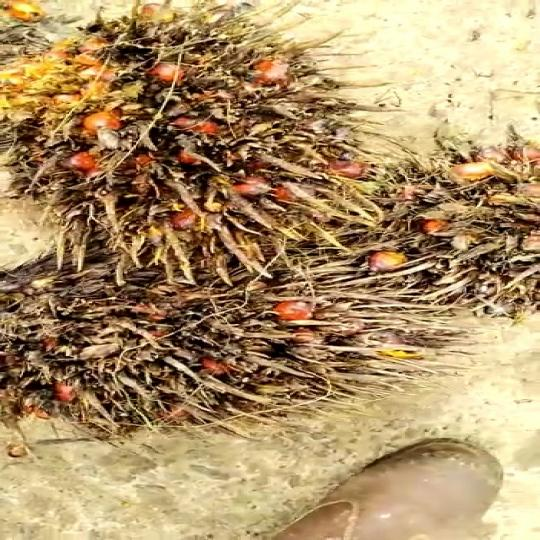terlalu masak: (0, 0, 404, 258), (0, 254, 428, 441), (341, 137, 540, 317)
